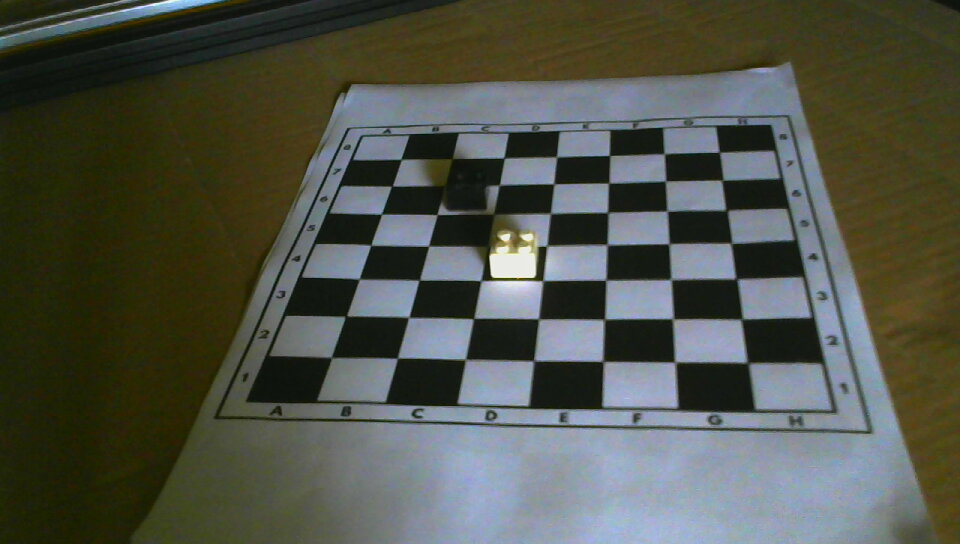bp: (444, 166, 488, 210)
wp: (487, 227, 538, 279)
